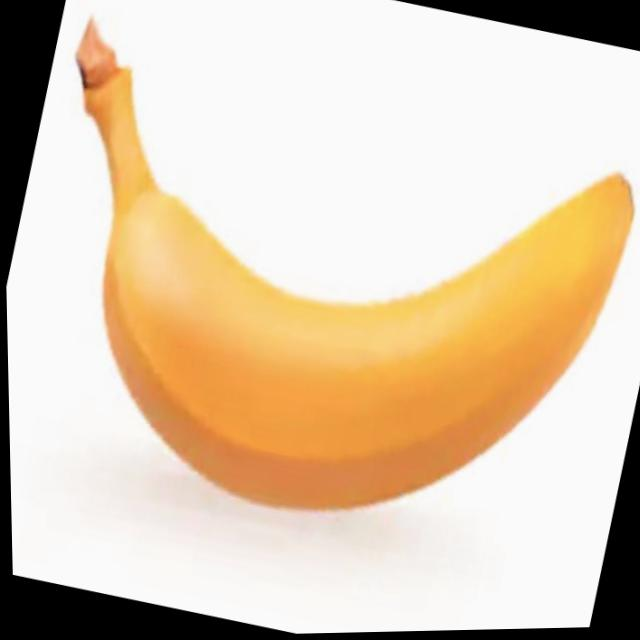Banana: (0, 2, 640, 579)
